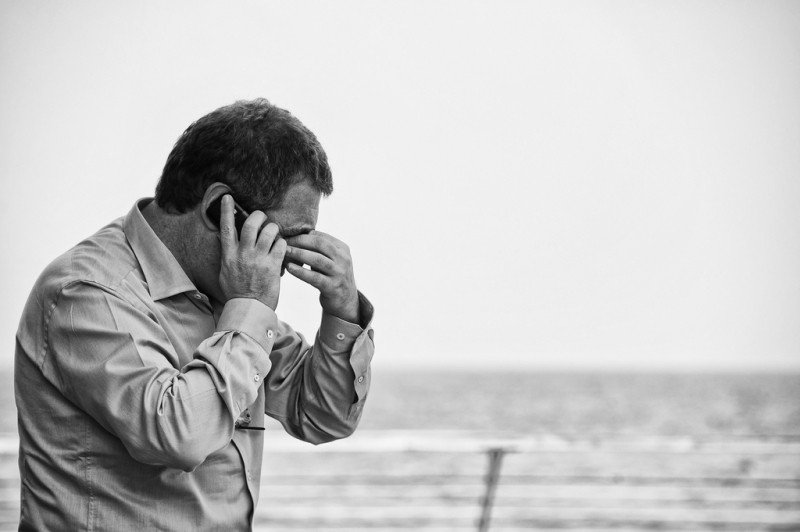phone: (200, 192, 290, 264)
talk: (189, 178, 319, 294)
